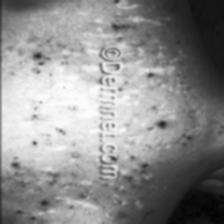Non-Cancerous Skin Condition: (119, 70, 180, 128), (31, 54, 45, 74), (107, 21, 125, 31), (28, 113, 43, 123), (53, 127, 65, 134), (68, 104, 78, 110), (28, 140, 40, 144)
